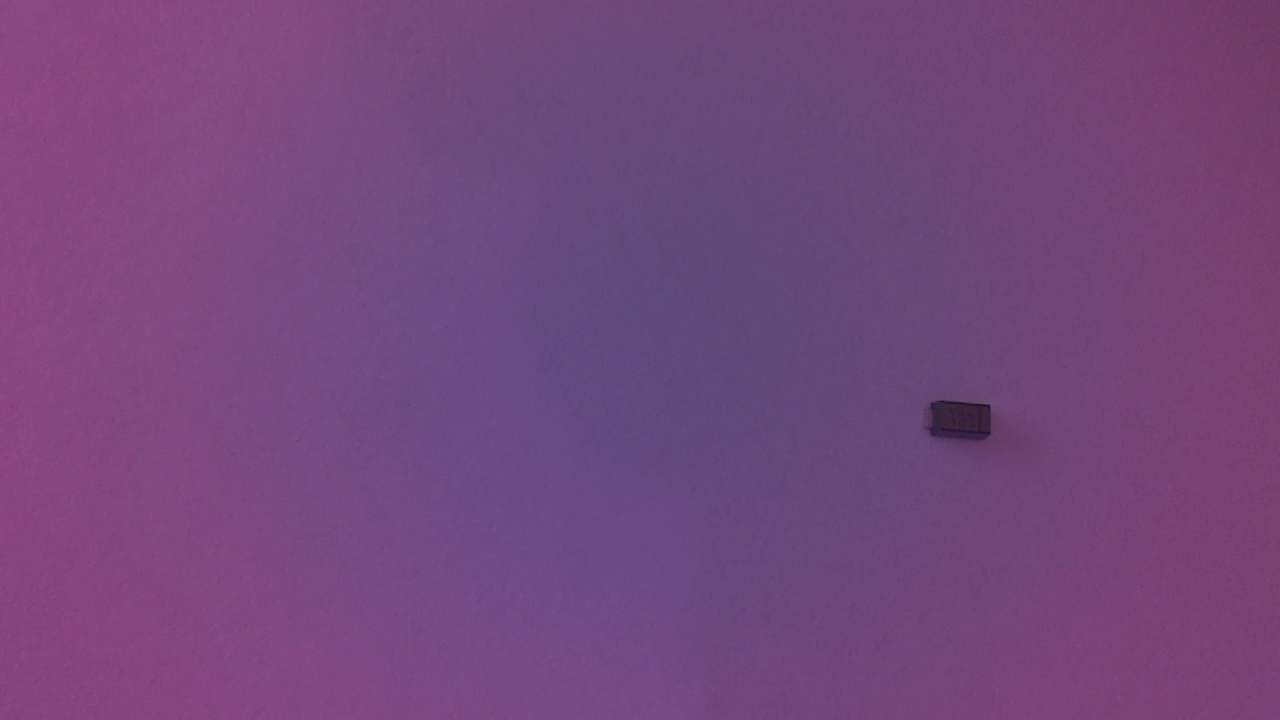Diode: (923, 397, 1012, 450)
